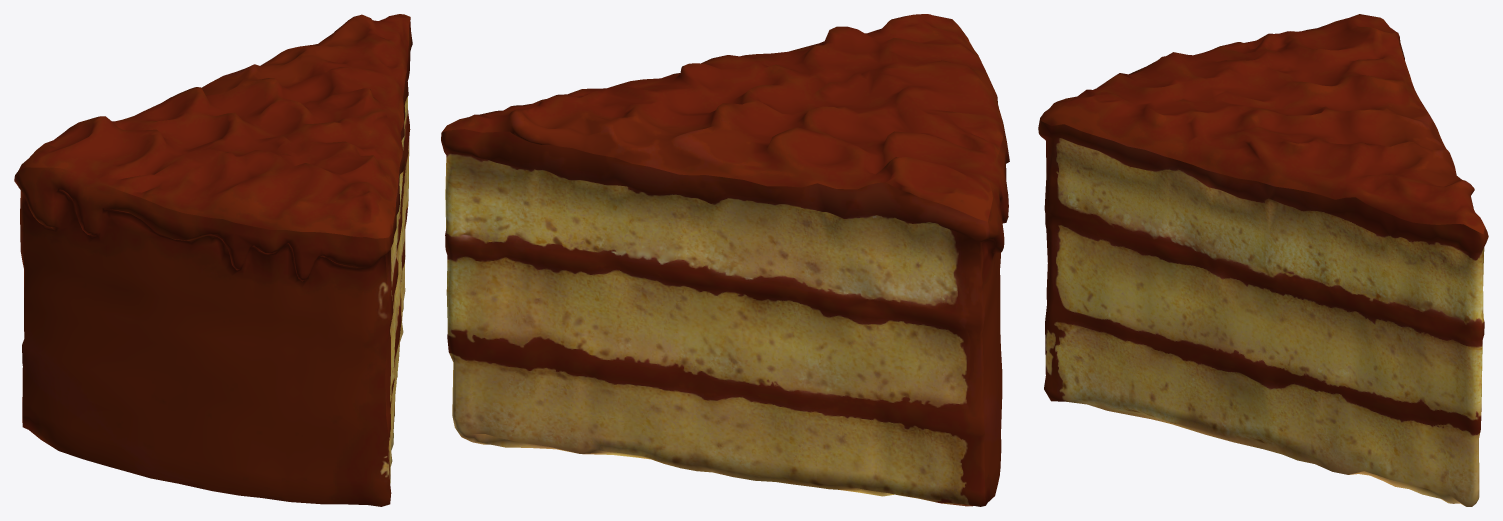
3 views of the same model, side by side, from view 1: azimuth 30°, elevation 25°; view 2: azimuth 150°, elevation 25°; view 3: azimuth 270°, elevation 25° (orthographic). The views are drawn at different scales.
Parts seen in each view (by area): view 1: cake; view 2: cake; view 3: cake.
Part boxes in pixels (x1,y1,x2,y2): cake: [14, 14, 412, 506]; cake: [441, 14, 1009, 506]; cake: [1038, 14, 1488, 506].
Bounding box in the file's own units: 0.6321 × 0.4196 × 0.546.
Materials: 1 (1 with a texture image).
